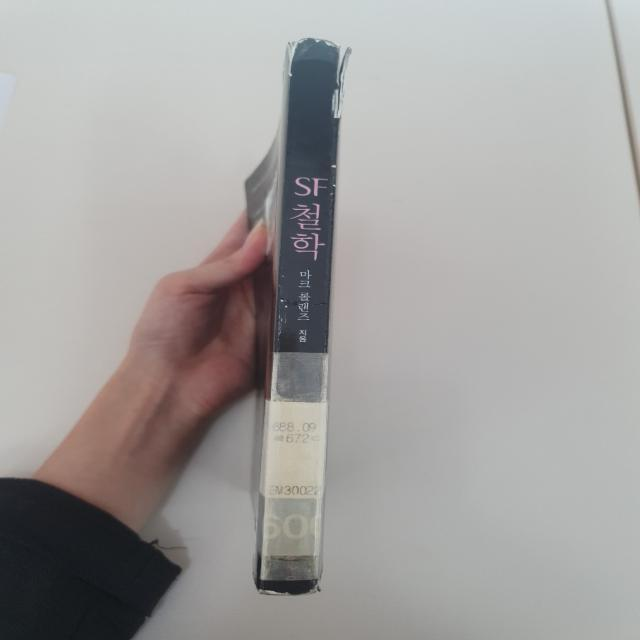Ripped: (332, 38, 354, 121), (293, 572, 326, 604), (283, 36, 302, 81)
Wornout: (251, 581, 293, 603), (329, 160, 340, 219), (300, 36, 340, 51)
